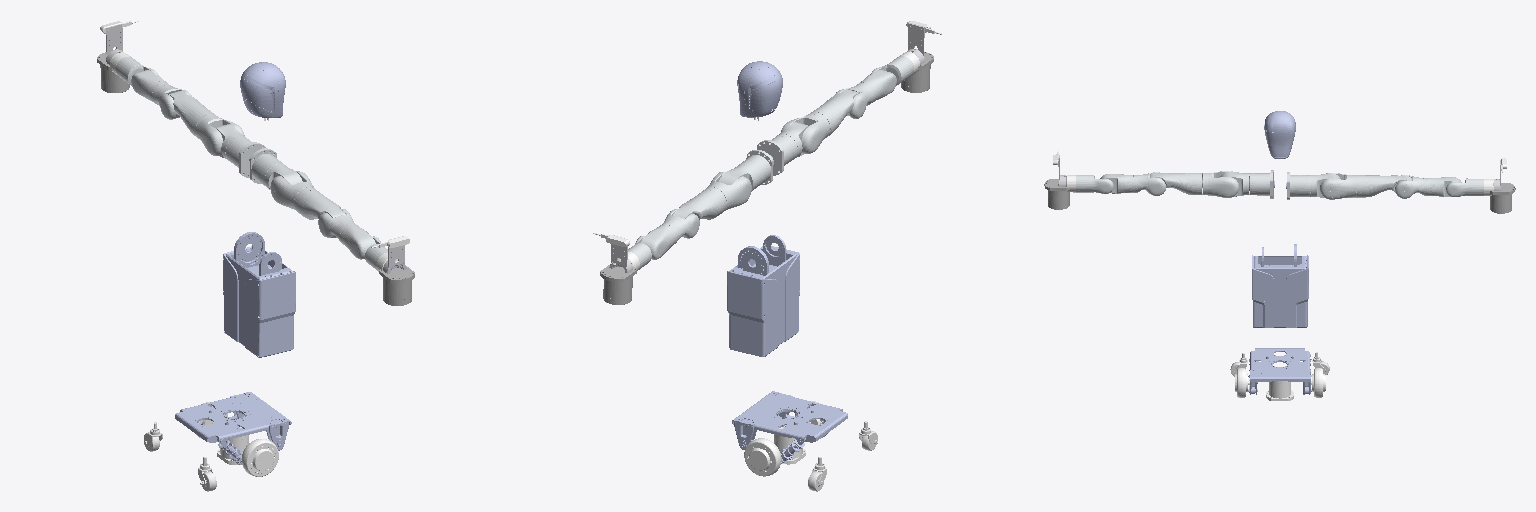
--- Render facts (derived) ---
Views: 3 orthographic renders of the robot side by side, from view 1: azimuth 30°, elevation 25°; view 2: azimuth 150°, elevation 25°; view 3: azimuth 270°, elevation 25°.
Robot: vb2_robot_description — 72 links, 71 joints (38 revolute, 10 continuous, 1 prismatic, 22 fixed); root link base_link; default pose: all joints at 0.
Links seen in each view (by area): view 1: waist_lift_link, chassis_rotate_link, head_left_right_link, right_wheel_link, right_hand_base_link, r3, l2, l3, jaka_left_base_link, r2, r5, jaka_right_base_link (+4 smaller); view 2: waist_lift_link, chassis_rotate_link, head_left_right_link, left_wheel_link, l3, left_hand_base_link, r2, jaka_right_base_link, r3, l2, l5, jaka_left_base_link (+5 smaller); view 3: waist_lift_link, chassis_rotate_link, head_left_right_link, l3, r3, l2, r2, r6, left_hand_base_link, right_hand_base_link, l6, jaka_right_base_link (+3 smaller).
Link boxes in pixels (left/top/right/bottom): waist_lift_link: left=223, top=232, right=295, bottom=357; chassis_rotate_link: left=175, top=392, right=291, bottom=464; head_left_right_link: left=240, top=62, right=285, bottom=117; right_wheel_link: left=242, top=439, right=278, bottom=476; right_hand_base_link: left=379, top=266, right=414, bottom=305; r3: left=294, top=187, right=345, bottom=237; l2: left=196, top=114, right=244, bottom=155; l3: left=168, top=91, right=214, bottom=137; jaka_left_base_link: left=226, top=136, right=265, bottom=177; r2: left=270, top=171, right=313, bottom=209; r5: left=340, top=224, right=375, bottom=259; jaka_right_base_link: left=249, top=148, right=282, bottom=185; waist_lift_link: left=727, top=235, right=799, bottom=356; chassis_rotate_link: left=732, top=391, right=847, bottom=463; head_left_right_link: left=737, top=61, right=782, bottom=117; left_wheel_link: left=744, top=438, right=781, bottom=476; l3: left=673, top=187, right=726, bottom=237; left_hand_base_link: left=600, top=265, right=636, bottom=304; r2: left=781, top=112, right=829, bottom=153; jaka_right_base_link: left=757, top=134, right=797, bottom=175; r3: left=811, top=89, right=858, bottom=137; l2: left=707, top=172, right=751, bottom=210; l5: left=641, top=224, right=676, bottom=259; jaka_left_base_link: left=738, top=150, right=773, bottom=188; waist_lift_link: left=1252, top=244, right=1308, bottom=327; chassis_rotate_link: left=1248, top=348, right=1311, bottom=394; head_left_right_link: left=1264, top=111, right=1295, bottom=158; l3: left=1357, top=175, right=1411, bottom=197; r3: left=1146, top=173, right=1202, bottom=194; l2: left=1320, top=173, right=1356, bottom=199; r2: left=1202, top=171, right=1238, bottom=197; r6: left=1076, top=175, right=1113, bottom=193; left_hand_base_link: left=1490, top=183, right=1515, bottom=213; right_hand_base_link: left=1044, top=179, right=1069, bottom=209; l6: left=1446, top=178, right=1483, bottom=196; jaka_right_base_link: left=1249, top=170, right=1273, bottom=198.
Bounding box of the posed robot: 0.451 × 2.17 × 1.5 m (x, y, z).
Meshes: 60 distinct files referenced, 37 mesh visuals loaded (31 binary STL); not drawn: 25 (reference not matched to a file when rendering).

URDF robot description (vb2_robot_description):
<?xml version="1.0" encoding="utf-8"?>
<!-- This URDF was automatically created by SolidWorks to URDF Exporter! Originally created by Stephen Brawner ([email redacted]) 
     Commit Version: 1.6.0-4-g7f85cfe  Build Version: 1.6.7995.38578
     For more information, please see http://wiki.ros.org/sw_urdf_exporter -->
<robot name="vb2_robot_description">
  <link name="base_link"/>
  <link name="body_link">
    <inertial>
      <origin xyz="-0.0251970799044455 8.52868180189679E-06 0.231530116008172" rpy="0 0 0" />
      <mass value="10.958069761735" />
      <inertia ixx="0.341839960083521" ixy="0.000982624278230509" ixz="0.0267988976156032" iyy="0.371180255026502" iyz="-0.000918163031179973" izz="0.473117101150532" />
    </inertial>
    <visual>
      <origin xyz="0 0 0" rpy="0 0 0" />
      <geometry>
        <mesh filename="package://vb2_robot_description/meshes/body/base_link.STL" />
      </geometry>
      <material name="">
        <color rgba="1 1 1 1" />
      </material>
    </visual>
    <collision>
      <origin xyz="0 0 0" rpy="0 0 0" />
      <geometry>
        <mesh filename="package://vb2_robot_description/meshes/body/base_link.STL" />
      </geometry>
    </collision>
  </link>
  <joint name="body_joint" type="fixed">
    <origin xyz="0 0 0.0" rpy="0 0 0" />
    <parent link="base_link" />
    <child link="body_link" />
  </joint>
  <link name="chassis_rotate_link">
    <inertial>
      <origin xyz="0.0109470720695932 -6.72882552291447E-05 -0.0351545668492394" rpy="0 0 0" />
      <mass value="1.15747280995913" />
      <inertia ixx="0.0038695556089932" ixy="-4.04285018806137E-07" ixz="-6.31818021660539E-05" iyy="0.0059475205719345" iyz="1.49059438520749E-08" izz="0.009314997148308" />
    </inertial>
    <visual>
      <origin xyz="0 0 0" rpy="0 0 0" />
      <geometry>
        <mesh filename="package://vb2_robot_description/meshes/body/chassis_rotate_link.STL" />
      </geometry>
      <material name="">
        <color rgba="0.792156862745098 0.819607843137255 0.933333333333333 1" />
      </material>
    </visual>
    <collision>
      <origin xyz="0 0 0" rpy="0 0 0" />
      <geometry>
        <mesh filename="package://vb2_robot_description/meshes/body/chassis_rotate_link.STL" />
      </geometry>
    </collision>
  </link>
  <joint name="chassis_rotate_joint" type="revolute">
    <origin xyz="0 0 0.158999979509223" rpy="0 0 0" />
    <parent link="base_link" />
    <child link="chassis_rotate_link" />
    <axis xyz="0 0 -1" />
    <limit lower="-3.14159" upper="3.14159" effort="0" velocity="0" />
  </joint>
  <link name="left_wheel_link">
    <inertial>
      <origin xyz="-1.47756019905931E-07 0.0354946261049178 -6.61107241173298E-08" rpy="0 0 0" />
      <mass value="4.86693848140666" />
      <inertia ixx="0.00548837601685928" ixy="-1.08676132372434E-08" ixz="-1.82831740379155E-08" iyy="0.00999342264519461" iyz="1.12705942194565E-11" izz="0.00548834613554923" />
    </inertial>
    <visual>
      <origin xyz="0 0 0" rpy="0 0 0" />
      <geometry>
        <mesh filename="package://vb2_robot_description/meshes/body/left_wheel_link.STL" />
      </geometry>
      <material name="">
        <color rgba="1 1 1 1" />
      </material>
    </visual>
    <collision>
      <origin xyz="0 0 0" rpy="0 0 0" />
      <geometry>
        <mesh filename="package://vb2_robot_description/meshes/body/left_wheel_link.STL" />
      </geometry>
    </collision>
  </link>
  <joint name="left_wheel_joint" type="continuous">
    <origin xyz="0 0.142 -0.0894999999999993" rpy="0 0 0" />
    <parent link="chassis_rotate_link" />
    <child link="left_wheel_link" />
    <axis xyz="0 -1 0" />
  </joint>
  <link name="right_wheel_link">
    <inertial>
      <origin xyz="1.4775601968128E-07 -0.0354946261049166 -6.61107240618186E-08" rpy="0 0 0" />
      <mass value="4.86693848140667" />
      <inertia ixx="0.00548837601685928" ixy="-1.08676132508849E-08" ixz="1.82831740386882E-08" iyy="0.00999342264519461" iyz="-1.12705933477203E-11" izz="0.00548834613554923" />
    </inertial>
    <visual>
      <origin xyz="0 0 0" rpy="0 0 0" />
      <geometry>
        <mesh filename="package://vb2_robot_description/meshes/body/right_wheel_link.STL" />
      </geometry>
      <material name="">
        <color rgba="1 1 1 1" />
      </material>
    </visual>
    <collision>
      <origin xyz="0 0 0" rpy="0 0 0" />
      <geometry>
        <mesh filename="package://vb2_robot_description/meshes/body/right_wheel_link.STL" />
      </geometry>
    </collision>
  </link>
  <joint name="right_wheel_joint" type="continuous">
    <origin xyz="0 -0.142 -0.0894999999999995" rpy="0 0 0" />
    <parent link="chassis_rotate_link" />
    <child link="right_wheel_link" />
    <axis xyz="0 -1 0" />
  </joint>
  <link name="driven_wheel_11_link">
    <inertial>
      <origin xyz="0.000507825861704364 0.00866693227443294 -0.0303345786097751" rpy="0 0 0" />
      <mass value="0.275591357882115" />
      <inertia ixx="0.000213166445152144" ixy="-2.27691524372505E-06" ixz="4.13287259463204E-06" iyy="0.00021972578963727" iyz="6.58699662777606E-05" izz="0.000112362383571066" />
    </inertial>
    <visual>
      <origin xyz="0 0 0" rpy="0 0 0" />
      <geometry>
        <mesh filename="package://vb2_robot_description/meshes/body/driven_wheel_11_link.STL" />
      </geometry>
      <material name="">
        <color rgba="0.956862745098039 0.956862745098039 0.956862745098039 1" />
      </material>
    </visual>
    <collision>
      <origin xyz="0 0 0" rpy="0 0 0" />
      <geometry>
        <mesh filename="package://vb2_robot_description/meshes/body/driven_wheel_11_link.STL" />
      </geometry>
    </collision>
  </link>
  <joint name="driven_wheel_11_joint" type="continuous">
    <origin xyz="0.21873654403271 0.168736544032709 0.0950000000000002" rpy="0 0 0" />
    <parent link="base_link" />
    <child link="driven_wheel_11_link" />
    <axis xyz="0 0 -1" />
  </joint>
  <link name="driven_wheel_12_link">
    <inertial>
      <origin xyz="-7.94444010576711E-09 -1.66533453693773E-16 6.93889390390723E-18" rpy="0 0 0" />
      <mass value="0.758646947138974" />
      <inertia ixx="0.000498267597109623" ixy="4.41480947958316E-19" ixz="-2.37346228596397E-18" iyy="0.000302637675433975" iyz="6.6105997393094E-11" izz="0.000302641828460563" />
    </inertial>
    <visual>
      <origin xyz="0 0 0" rpy="0 0 0" />
      <geometry>
        <mesh filename="package://vb2_robot_description/meshes/body/driven_wheel_12_link.STL" />
      </geometry>
      <material name="">
        <color rgba="0.956862745098039 0.956862745098039 0.956862745098039 1" />
      </material>
    </visual>
    <collision>
      <origin xyz="0 0 0" rpy="0 0 0" />
      <geometry>
        <mesh filename="package://vb2_robot_description/meshes/body/driven_wheel_12_link.STL" />
      </geometry>
    </collision>
  </link>
  <joint name="driven_wheel_12_joint" type="continuous">
    <origin xyz="0 0.025 -0.06" rpy="0 0 0" />
    <parent link="driven_wheel_11_link" />
    <child link="driven_wheel_12_link" />
    <axis xyz="1 0 0" />
  </joint>
  <link name="driven_wheel_21_link">
    <inertial>
      <origin xyz="0.00050782586170442 0.00866693227443296 -0.0303345786097751" rpy="0 0 0" />
      <mass value="0.275591357882116" />
      <inertia ixx="0.000213166445152144" ixy="-2.27691524372511E-06" ixz="4.13287259463212E-06" iyy="0.00021972578963727" iyz="6.58699662777607E-05" izz="0.000112362383571066" />
    </inertial>
    <visual>
      <origin xyz="0 0 0" rpy="0 0 0" />
      <geometry>
        <mesh filename="package://vb2_robot_description/meshes/body/driven_wheel_21_link.STL" />
      </geometry>
      <material name="">
        <color rgba="0.956862745098039 0.956862745098039 0.956862745098039 1" />
      </material>
    </visual>
    <collision>
      <origin xyz="0 0 0" rpy="0 0 0" />
      <geometry>
        <mesh filename="package://vb2_robot_description/meshes/body/driven_wheel_21_link.STL" />
      </geometry>
    </collision>
  </link>
  <joint name="driven_wheel_21_joint" type="continuous">
    <origin xyz="-0.225934044022146 0.168736544032709 0.0950000000000002" rpy="0 0 0" />
    <parent link="base_link" />
    <child link="driven_wheel_21_link" />
    <axis xyz="0 0 -1" />
  </joint>
  <link name="driven_wheel_22_link">
    <inertial>
      <origin xyz="-7.94444013352269E-09 -1.11022302462516E-16 -1.38777878078145E-17" rpy="0 0 0" />
      <mass value="0.758646947138975" />
      <inertia ixx="0.000498267597109623" ixy="4.17194150408554E-19" ixz="-2.42508574243732E-18" iyy="0.000302637675433975" iyz="6.61059973239751E-11" izz="0.000302641828460563" />
    </inertial>
    <visual>
      <origin xyz="0 0 0" rpy="0 0 0" />
      <geometry>
        <mesh filename="package://vb2_robot_description/meshes/body/driven_wheel_22_link.STL" />
      </geometry>
      <material name="">
        <color rgba="0.956862745098039 0.956862745098039 0.956862745098039 1" />
      </material>
    </visual>
    <collision>
      <origin xyz="0 0 0" rpy="0 0 0" />
      <geometry>
        <mesh filename="package://vb2_robot_description/meshes/body/driven_wheel_22_link.STL" />
      </geometry>
    </collision>
  </link>
  <joint name="driven_wheel_22_joint" type="continuous">
    <origin xyz="0 0.025 -0.06" rpy="0 0 0" />
    <parent link="driven_wheel_21_link" />
    <child link="driven_wheel_22_link" />
    <axis xyz="1 0 0" />
  </joint>
  <link name="driven_wheel_31_link">
    <inertial>
      <origin xyz="-0.00050782586170442 -0.00866693227443296 -0.0303345786097751" rpy="0 0 0" />
      <mass value="0.275591357882116" />
      <inertia ixx="0.000213166445152144" ixy="-2.27691524372511E-06" ixz="-4.13287259463212E-06" iyy="0.00021972578963727" iyz="-6.58699662777607E-05" izz="0.000112362383571066" />
    </inertial>
    <visual>
      <origin xyz="0 0 0" rpy="0 0 0" />
      <geometry>
        <mesh filename="package://vb2_robot_description/meshes/body/driven_wheel_31_link.STL" />
      </geometry>
      <material name="">
        <color rgba="0.956862745098039 0.956862745098039 0.956862745098039 1" />
      </material>
    </visual>
    <collision>
      <origin xyz="0 0 0" rpy="0 0 0" />
      <geometry>
        <mesh filename="package://vb2_robot_description/meshes/body/driven_wheel_31_link.STL" />
      </geometry>
    </collision>
  </link>
  <joint name="driven_wheel_31_joint" type="continuous">
    <origin xyz="0.225934044022146 -0.168736544032709 0.0950000000000002" rpy="0 0 0" />
    <parent link="base_link" />
    <child link="driven_wheel_31_link" />
    <axis xyz="0 0 -1" />
  </joint>
  <link name="driven_wheel_32_link">
    <inertial>
      <origin xyz="7.94444013352269E-09 1.11022302462516E-16 -1.38777878078145E-17" rpy="0 0 0" />
      <mass value="0.758646947138975" />
      <inertia ixx="0.000498267597109623" ixy="4.17216344536806E-19" ixz="2.42508732772574E-18" iyy="0.000302637675433975" iyz="-6.61059973239751E-11" izz="0.000302641828460563" />
    </inertial>
    <visual>
      <origin xyz="0 0 0" rpy="0 0 0" />
      <geometry>
        <mesh filename="package://vb2_robot_description/meshes/body/driven_wheel_32_link.STL" />
      </geometry>
      <material name="">
        <color rgba="0.956862745098039 0.956862745098039 0.956862745098039 1" />
      </material>
    </visual>
    <collision>
      <origin xyz="0 0 0" rpy="0 0 0" />
      <geometry>
        <mesh filename="package://vb2_robot_description/meshes/body/driven_wheel_32_link.STL" />
      </geometry>
    </collision>
  </link>
  <joint name="driven_wheel_32_joint" type="continuous">
    <origin xyz="0 -0.025 -0.06" rpy="0 0 0" />
    <parent link="driven_wheel_31_link" />
    <child link="driven_wheel_32_link" />
    <axis xyz="-1 0 0" />
  </joint>
  <link name="driven_wheel_41_link">
    <inertial>
      <origin xyz="-0.000507825861704336 -0.00866693227443291 -0.0303345786097751" rpy="0 0 0" />
      <mass value="0.275591357882115" />
      <inertia ixx="0.000213166445152144" ixy="-2.27691524372505E-06" ixz="-4.13287259463204E-06" iyy="0.00021972578963727" iyz="-6.58699662777606E-05" izz="0.000112362383571066" />
    </inertial>
    <visual>
      <origin xyz="0 0 0" rpy="0 0 0" />
      <geometry>
        <mesh filename="package://vb2_robot_description/meshes/body/driven_wheel_41_link.STL" />
      </geometry>
      <material name="">
        <color rgba="0.956862745098039 0.956862745098039 0.956862745098039 1" />
      </material>
    </visual>
    <collision>
      <origin xyz="0 0 0" rpy="0 0 0" />
      <geometry>
        <mesh filename="package://vb2_robot_description/meshes/body/driven_wheel_41_link.STL" />
      </geometry>
    </collision>
  </link>
  <joint name="driven_wheel_41_joint" type="continuous">
    <origin xyz="-0.21873654403271 -0.168736544032709 0.0950000000000002" rpy="0 0 0" />
    <parent link="base_link" />
    <child link="driven_wheel_41_link" />
    <axis xyz="0 0 -1" />
  </joint>
  <link name="driven_wheel_42_link">
    <inertial>
      <origin xyz="7.94444010576711E-09 1.66533453693773E-16 6.93889390390723E-18" rpy="0 0 0" />
      <mass value="0.758646947138974" />
      <inertia ixx="0.000498267597109623" ixy="4.41493630368903E-19" ixz="2.37332278001496E-18" iyy="0.000302637675433975" iyz="-6.6105997393094E-11" izz="0.000302641828460563" />
    </inertial>
    <visual>
      <origin xyz="0 0 0" rpy="0 0 0" />
      <geometry>
        <mesh filename="package://vb2_robot_description/meshes/body/driven_wheel_42_link.STL" />
      </geometry>
      <material name="">
        <color rgba="0.956862745098039 0.956862745098039 0.956862745098039 1" />
      </material>
    </visual>
    <collision>
      <origin xyz="0 0 0" rpy="0 0 0" />
      <geometry>
        <mesh filename="package://vb2_robot_description/meshes/body/driven_wheel_42_link.STL" />
      </geometry>
    </collision>
  </link>
  <joint name="driven_wheel_42_joint" type="continuous">
    <origin xyz="0 -0.025 -0.06" rpy="0 0 0" />
    <parent link="driven_wheel_41_link" />
    <child link="driven_wheel_42_link" />
    <axis xyz="-1 0 0" />
  </joint>

  <link name="waist_lift_link">
    <inertial>
      <origin xyz="0.00012524 0.00097659 5.8284E-05" rpy="0 0 0" />
      <mass value="1.4015" />
      <inertia ixx="0.026179" ixy="-8.7251E-06" ixz="-0.00014781" iyy="0.017166" iyz="-0.00035677" izz="0.016586" />
    </inertial>
    <visual>
      <origin xyz="0 0 0" rpy="0 0 0" />
      <geometry>
        <mesh filename="package://vb2_robot_description/meshes/body/waist_lift_link.STL" />
      </geometry>
      <material name="">
        <color rgba="0.79216 0.81961 0.93333 1" />
      </material>
    </visual>
    <collision>
      <origin xyz="0 0 0" rpy="0 0 0" />
      <geometry>
        <mesh filename="package://vb2_robot_description/meshes/body/waist_lift_link.STL" />
      </geometry>
    </collision>
  </link>
  <joint name="waist_lift_joint" type="prismatic">
    <!-- !USM <origin xyz="0.1 0 0.6455" rpy="0 0 0" /> -->
    <!-- !vb2-1 -->
    <origin xyz="0.1 0 0.633" rpy="0 0 0" />
    <parent link="base_link" />
    <child link="waist_lift_link" />
    <axis xyz="0 0 1" />
    <limit lower="0" upper="0.25" effort="0" velocity="0" />
  </joint>
  <link name="waist_rotate_link">
    <inertial>
      <origin xyz="-0.003779 -0.0018054 0.17212" rpy="0 0 0" />
      <mass value="4.8011" />
      <inertia ixx="0.10715" ixy="1.9407E-05" ixz="0.0039927" iyy="0.094296" iyz="-0.00028871" izz="0.047274" />
    </inertial>
    <visual>
      <origin xyz="0 0 0" rpy="0 0 0" />
      <geometry>
        <mesh filename="package://vb2_robot_description/meshes/body/waist_rotate_link.STL" />
      </geometry>
      <material name="">
        <color rgba="0.79216 0.81961 0.93333 1" />
      </material>
    </visual>
    <collision>
      <origin xyz="0 0 0" rpy="0 0 0" />
      <geometry>
        <mesh filename="package://vb2_robot_description/meshes/body/waist_rotate_link.STL" />
      </geometry>
    </collision>
  </link>
  <joint name="waist_rotate_joint" type="revolute">
    <origin xyz="0 0 0.125" rpy="0 0 0" />
    <parent link="waist_lift_link" />
    <child link="waist_rotate_link" />
    <axis xyz="0 -1 0" />
    <limit lower="-0.785" upper="0" effort="0" velocity="0" />
  </joint>
  <link name="head_up_down_link">
    <inertial>
      <origin xyz="-2.0779E-13 -4.8629E-05 0.027657" rpy="0 0 0" />
      <mass value="0.042527" />
      <inertia ixx="2.6994E-05" ixy="-1.0403E-19" ixz="6.5803E-17" iyy="1.2063E-05" iyz="-8.8309E-21" izz="1.8233E-05" />
    </inertial>
    <visual>
      <origin xyz="0 0 0" rpy="0 0 0" />
      <geometry>
        <mesh filename="package://vb2_robot_description/meshes/body/head_up_down_link.STL" />
      </geometry>
      <material name="">
        <color rgba="1 1 1 1" />
      </material>
    </visual>
    <collision>
      <origin xyz="0 0 0" rpy="0 0 0" />
      <geometry>
        <mesh filename="package://vb2_robot_description/meshes/body/head_up_down_link.STL" />
      </geometry>
    </collision>
  </link>
  <joint name="head_up_down_joint" type="revolute">
    <origin xyz="0.015504 0 0.536" rpy="0 0 0" />
    <parent link="waist_rotate_link" />
    <child link="head_up_down_link" />
    <axis xyz="0 1 0" />
    <limit lower="-0.52" upper="0.52" effort="30" velocity="1.134" />
  </joint>
  <link name="head_left_right_link">
    <inertial>
      <origin xyz="0.00087583 8.4935E-06 0.061613" rpy="0 0 0" />
      <mass value="0.31936" />
      <inertia ixx="0.0013361" ixy="-5.6239E-08" ixz="0.00021074" iyy="0.0010235" iyz="3.4007E-08" izz="0.00085163" />
    </inertial>
    <visual>
      <origin xyz="0 0 0" rpy="0 0 0" />
      <geometry>
        <mesh filename="package://vb2_robot_description/meshes/body/head_left_right_link.STL" />
      </geometry>
      <material name="">
        <color rgba="0.79216 0.81961 0.93333 1" />
      </material>
    </visual>
    <collision>
      <origin xyz="0 0 0" rpy="0 0 0" />
      <geometry>
        <mesh filename="package://vb2_robot_description/meshes/body/head_left_right_link.STL" />
      </geometry>
    </collision>
  </link>
  <joint name="head_left_right_joint" type="revolute">
    <origin xyz="0 -4.8629E-05 0.045" rpy="0 0 0" />
    <parent link="head_up_down_link" />
    <child link="head_left_right_link" />
    <axis xyz="0 0 1" />
    <limit lower="-0.52" upper="0.52" effort="30" velocity="1.134" />
  </joint>

  <link name="jaka_left_link">
    <inertial>
      <origin xyz="1.3878E-17 -0.0025 -4.4409E-16" rpy="0 0 0" />
      <mass value="0.0035343" />
      <inertia ixx="2.0617E-07" ixy="-2.0885E-23" ixz="2.4694E-38" iyy="3.9761E-07" iyz="4.1206E-24" izz="2.0617E-07" />
    </inertial>
    <visual>
      <origin xyz="0 0 0" rpy="0 0 0" />
      <geometry>
        <mesh filename="package://vb2_robot_description/meshes/body/jaka_left_base_link.STL" />
      </geometry>
      <material name="">
        <color rgba="0.79216 0.81961 0.93333 1" />
      </material>
    </visual>
    <collision>
      <origin xyz="0 0 0" rpy="0 0 0" />
      <geometry>
        <mesh filename="package://vb2_robot_description/meshes/body/jaka_left_base_link.STL" />
      </geometry>
    </collision>
  </link>
  <joint name="jaka_left_joint" type="fixed">
    <!-- !USM <origin xyz="0 0.03 0.368" rpy="0 0 0" /> -->
    <!-- !vb2-1 -->
    <!-- <origin xyz="0 0.03 0.35" rpy="0 0 0" />
    <parent link="waist_rotate_link" /> -->
    <!-- 标定后 -->
    <origin xyz="-0.051893149 -0.234210701 -0.103264933" rpy="2.917451 -1.539174 -1.351978" />
    <parent link="HS3310_link" />
    <child link="jaka_left_link" />
  </joint>
  <link name="jaka_right_link">
    <inertial>
      <origin xyz="-2.7756E-17 0.0025 0" rpy="0 0 0" />
      <mass value="0.0035343" />
      <inertia ixx="2.0617E-07" ixy="3.9632E-23" ixz="2.5996E-38" iyy="3.9761E-07" iyz="4.1206E-24" izz="2.0617E-07" />
    </inertial>
    <visual>
      <origin xyz="0 0 0" rpy="0 0 0" />
      <geometry>
        <mesh filename="package://vb2_robot_description/meshes/body/jaka_right_base_link.STL" />
      </geometry>
      <material name="">
        <color rgba="0.79216 0.81961 0.93333 1" />
      </material>
    </visual>
    <collision>
      <origin xyz="0 0 0" rpy="0 0 0" />
      <geometry>
        <mesh filename="package://vb2_robot_description/meshes/body/jaka_right_base_link.STL" />
      </geometry>
    </collision>
  </link>
  <joint name="jaka_right_joint" type="fixed">
    <!-- !USM <origin xyz="0 -0.03 0.368" rpy="0 0 0" /> -->
    <!-- !vb2-1 -->
    <!-- <origin xyz="0 -0.03 0.35" rpy="0 0 0" />
    <parent link="waist_rotate_link" /> -->
    <!-- 标定后 -->
    <origin xyz="0.008920934 -0.241096213 -0.102657644 " rpy="2.274 -1.539 -0.697" />
    <parent link="HS3310_link" />
    <child link="jaka_right_link" />
  </joint>

  <!-- jaka left arm -->
  <link name="jaka_left_base_link">
    <inertial>
      <origin xyz="-1.11166631455717E-12 6.05753558424738E-10 0.0527092716866375" rpy="0 0 0" />
      <mass value="2.65143721613807" />
      <inertia ixx="0.00475738389153103" ixy="-5.95934896029248E-12" ixz="-9.09286133435972E-14" iyy="0.00459825420119207" iyz="-2.97976271757394E-11" izz="0.00370585568871224" />
    </inertial>
    <visual>
      <origin xyz="0 0 0" rpy="0 0 0" />
      <geometry>
        <mesh filename="package://vb2_robot_description/meshes/jaka_left_arm/base_link.STL" />
      </geometry>
      <material name="">
        <color rgba="0.898039215686275 0.917647058823529 0.929411764705882 1" />
      </material>
    </visual>
    <collision>
      <origin xyz="0 0 0" rpy="0 0 0" />
      <geometry>
        <mesh filename="package://vb2_robot_description/meshes/jaka_left_arm/base_link.STL" />
      </geometry>
    </collision>
  </link>
  <joint name="jaka_left_base_joint" type="fixed">
    <origin xyz="0 0 0" rpy="-1.5707963 0 0" />
    <parent link="jaka_left_link" />
    <child link="jaka_left_base_link" />
  </joint>
  <link name="l1">
    <inertial>
      <origin xyz="-2.46089259270388E-06 -2.84970803954288E-07 0.164287024147324" rpy="0 0 0" />
      <mass value="1.4907907847092" />
      <inertia ixx="0.0030595188968923" ixy="1.23224145473104E-07" ixz="4.7234802831064E-08" iyy="0.00378376232211127" iyz="-3.76862386224473E-08" izz="0.00212531859055589" />
    </inertial>
    <visual>
      <origin xyz="0 0 0" rpy="0 0 0" />
      <geometry>
        <mesh filename="package://vb2_robot_description/meshes/jaka_left_arm/l1.STL" />
      </geometry>
      <material name="">
        <color rgba="0.898039215686275 0.917647058823529 0.929411764705882 1" />
      </material>
    </visual>
    <collision>
      <origin xyz="0 0 0" rpy="0 0 0" />
      <geometry>
        <mesh filename="package://vb2_robot_description/meshes/jaka_left_arm/l1.STL" />
      </geometry>
    </collision>
  </link>
  <joint name="l_j1" type="revolute">
    <origin xyz="0 0 0" rpy="0 0 -1.5708" />
    <parent link="jaka_left_base_link" />
    <child link="l1" />
    <axis xyz="0 0 1" />
    <limit lower="-6.2831" upper="6.2831" effort="0" velocity="0" />
  </joint>
  <link name="l2">
    <inertial>
      <origin xyz="-0.00348811639068414 -0.0451640844014566 -0.000762978610482329" rpy="0 0 0" />
      <mass value="2.70256692795753" />
      <inertia ixx="0.00982602108227595" ixy="-0.000302421298853649" ixz="7.23672460560105E-06" iyy="0.00590953952283702" iyz="9.32631657353728E-05" izz="0.00747854000665196" />
    </inertial>
    <visual>
      <origin xyz="0 0 0" rpy="0 0 0" />
      <geometry>
        <mesh filename="package://vb2_robot_description/meshes/jaka_left_arm/l2.STL" />
      </geometry>
      <material name="">
        <color rgba="0.898039215686275 0.917647058823529 0.929411764705882 1" />
      </material>
    </visual>
    <collision>
      <origin xyz="0 0 0" rpy="0 0 0" />
      <geometry>
        <mesh filename="package://vb2_robot_description/meshes/jaka_left_arm/l2.STL" />
      </geometry>
    </collision>
  </link>
  <joint name="l_j2" type="revolute">
    <origin xyz="0 0 0.203" rpy="-1.5708 0 0" />
    <parent link="l1" />
    <child link="l2" />
    <axis xyz="0 0 1" />
    <limit lower="-1.8325" upper="1.8325" effort="0" velocity="0" />
  </joint>
  <link name="l3">
    <inertial>
      <origin xyz="-0.00699746985937827 -0.000446252744778108 0.236700984606428" rpy="0 0 0" />
      <mass value="3.5479020475757" />
      <inertia ixx="0.0185299155929474" ixy="1.22555145339142E-06" ixz="0.000124487295297341" iyy="0.0186988857034901" iyz="-1.68829932415711E-05" izz="0.00375501658944992" />
    </inertial>
    <visual>
      <origin xyz="0 0 0" rpy="0 0 0" />
      <geometry>
        <mesh filename="package://vb2_robot_description/meshes/jaka_left_arm/l3.STL" />
      </geometry>
      <material name="">
        <color rgba="0.898039215686275 0.917647058823529 0.929411764705882 1" />
      </material>
    </visual>
    <collision>
      <origin xyz="0 0 0" rpy="0 0 0" />
      <geometry>
        <mesh filename="package://vb2_robot_description/meshes/jaka_left_arm/l3.STL" />
      </geometry>
    </collision>
  </link>
  <joint name="l_j3" type="revolute">
    <origin xyz="0 0 0" rpy="-1.5708 0 3.1416" />
    <parent link="l2" />
    <child link="l3" />
    <axis xyz="0 0 1" />
    <limit lower="-6.2831" upper="6.2831" effort="0" velocity="0" />
  </joint>
  <link name="l4">
    <inertial>
      <origin xyz="0.00585740744905894 -0.0314019238103633 0.000428273273246155" rpy="0 0 0" />
      <mass value="1.47373567274524" />
      <inertia ixx="0.00377869099038954" ixy="0.000218862142889913" ixz="-9.99763645881045E-08" iyy="0.00227042793327652" iyz="8.03576591258955E-06" izz="0.00281134195603674" />
    </inertial>
    <visual>
      <origin xyz="0 0 0" rpy="0 0 0" />
      <geometry>
        <mesh filename="package://vb2_robot_description/meshes/jaka_left_arm/l4.STL" />
      </geometry>
      <material name="">
        <color rgba="0.898039215686275 0.917647058823529 0.929411764705882 1" />
      </material>
    </visual>
    <collision>
      <origin xyz="0 0 0" rpy="0 0 0" />
      <geometry>
        <mesh filename="package://vb2_robot_description/meshes/jaka_left_arm/l4.STL" />
      </geometry>
    </collision>
  </link>
  <joint name="l_j4" type="revolute">
    <origin xyz="0.00040047 0 0.3405" rpy="-1.5708 0 -3.1416" />
    <parent link="l3" />
    <child link="l4" />
    <axis xyz="0 0 1" />
    <limit lower="-2.5307" upper="0.5235" effort="0" velocity="0" />
  </joint>
  <link name="l5">
    <inertial>
      <origin xyz="-2.89934462277541E-06 0.00407892339164011 0.183529656371899" rpy="0 0 0" />
      <mass value="2.28083614923683" />
      <inertia ixx="0.00549246978922256" ixy="2.00179486326029E-07" ixz="2.24427581574717E-07" iyy="0.00557866184825314" iyz="-0.000384181497552219" izz="0.00195895181252497" />
    </inertial>
    <visual>
      <origin xyz="0 0 0" rpy="0 0 0" />
      <geometry>
        <mesh filename="package://vb2_robot_description/meshes/jaka_left_arm/l5.STL" />
      </geometry>
      <material name="">
        <color rgba="0.898039215686275 0.917647058823529 0.929411764705882 1" />
      </material>
    </visual>
    <collision>
      <origin xyz="0 0 0" rpy="0 0 0" />
      <geometry>
        <mesh filename="package://vb2_robot_description/meshes/jaka_left_arm/l5.STL" />
      </geometry>
    </collision>
  </link>
  <joint name="l_j5" type="revolute">
    <origin xyz="0 0 0" rpy="-1.5708 0 -3.1416" />
    <parent link="l4" />
    <child link="l5" />
    <axis xyz="0 0 1" />
    <limit lower="-6.2831" upper="6.2831" effort="0" velocity="0" />
  </joint>
  <link name="l6">
    <inertial>
      <origin xyz="-1.74515663808883E-07 -0.0869630242340927 0.00555273370174895" rpy="0 0 0" />
      <mass value="1.76168273075004" />
      <inertia ixx="0.0044404168516555" ixy="2.375821924305E-08" ixz="6.28763061286534E-09" iyy="0.00157714240799763" iyz="-0.00076969127576894" izz="0.00425162477583013" />
    </inertial>
    <visual>
      <origin xyz="0 0 0" rpy="0 0 0" />
      <geometry>
        <mesh filename="package://vb2_robot_description/meshes/jaka_left_arm/l6.STL" />
      </geometry>
      <material name="">
        <color rgba="0.898039215686275 0.917647058823529 0.929411764705882 1" />
      </material>
    </visual>
    <collision>
      <origin xyz="0 0 0" rpy="0 0 0" />
      <geometry>
        <mesh filename="package://vb2_robot_description/meshes/jaka_left_arm/l6.STL" />
      </geometry>
    </collision>
  </link>
  <joint name="l_j6" type="revolute">
    <origin xyz="0 0 0.22694" rpy="-1.5708 0 -3.1416" />
    <parent link="l5" />
    <child link="l6" />
    <axis xyz="0 0 1" />
    <limit lower="-1.5707" upper="1.5707" effort="0" velocity="0" />
  </joint>
  <link name="l7">
    <inertial>
      <origin xyz="2.69418597542703E-07 -2.94990448034826E-05 0.176217274894146" rpy="0 0 0" />
      <mass value="0.634983447813082" />
      <inertia ixx="0.000369700889597726" ixy="3.07621123817192E-13" ixz="2.61093000823341E-13" iyy="0.000370207332440143" iyz="4.29842702140501E-07" izz="0.000512144747874418" />
    </inertial>
    <visual>
      <origin xyz="0 0 0" rpy="0 0 0" />
      <geometry>
        <mesh filename="package://vb2_robot_description/meshes/jaka_left_arm/l7.STL" />
      </geometry>
      <material name="">
        <color rgba="1 1 1 1" />
      </material>
    </visual>
    <collision>
      <origin xyz="0 0 0" rpy="0 0 0" />
      <geometry>
        <mesh filename="package://vb2_robot_description/meshes/jaka_left_arm/l7.STL" />
      </geometry>
    </collision>
  </link>
  <joint name="l_j7" type="revolute">
    <origin xyz="0 0 0" rpy="1.5708 0 0" />
    <parent link="l6" />
    <child link="l7" />
    <axis xyz="0 0 1" />
    <limit lower="-6.2831" upper="6.2831" effort="0" velocity="0" />
  </joint>
  <link name="lt">
    <inertial>
      <origin xyz="1.11022302462516E-16 1.38777878078145E-17 -0.00100000000000011" rpy="0 0 0" />
      <mass value="0.00155862265526231" />
      <inertia ixx="9.71784989903392E-08" ixy="2.00584569560588E-24" ixz="-1.11669382694659E-23" iyy="9.71784989903392E-08" iyz="2.69722272003375E-24" izz="1.93317916210503E-07" />
    </inertial>
    <visual>
      <origin xyz="0 0 0" rpy="0 0 0" />
      <geometry>
        <mesh filename="package://vb2_robot_description/meshes/jaka_left_arm/lt.STL" />
      </geometry>
      <material name="">
        <color rgba="0.792156862745098 0.819607843137255 0.933333333333333 1" />
      </material>
    </visual>
    <collision>
      <origin xyz="0 0 0" rpy="0 0 0" />
      <geometry>
        <mesh filename="package://vb2_robot_description/meshes/jaka_left_arm/lt.STL" />
      </geometry>
    </collision>
  </link>
  <joint name="l_t" type="fixed">
    <origin xyz="0 0 0.18827" rpy="0 0 0" />
    <parent link="l7" />
    <child link="lt" />
    <axis xyz="0 0 0" />
  </joint>

  <link name="left_tool_link"/>
  <joint name="left_tool_joint" type="fixed">
    <origin xyz="0 0 0" rpy="0 0 0" />
    <parent link="lt" />
    <child link="left_tool_link" />
    <axis xyz="0 0 0" />
  </joint>

  <!-- jaka right arm -->
  <link name="jaka_right_base_link">
    <inertial>
      <origin xyz="1.11166631455717E-12 -6.05753558424738E-10 0.0527092716866375" rpy="0 0 0" />
      <mass value="2.65143721613807" />
      <inertia ixx="0.00475738389153103" ixy="-5.95934905864509E-12" ixz="9.0928659444995E-14" iyy="0.00459825420119207" iyz="2.97976273849371E-11" izz="0.00370585568871224" />
    </inertial>
    <visual>
      <origin xyz="0 0 0" rpy="0 0 0" />
      <geometry>
        <mesh filename="package://vb2_robot_description/meshes/jaka_right_arm/base_link.STL" />
      </geometry>
      <material name="">
        <color rgba="0.898039215686275 0.917647058823529 0.929411764705882 1" />
      </material>
    </visual>
    <collision>
      <origin xyz="0 0 0" rpy="0 0 0" />
      <geometry>
        <mesh filename="package://vb2_robot_description/meshes/jaka_right_arm/base_link.STL" />
      </geometry>
    </collision>
  </link>
  <joint name="jaka_right_base_joint" type="fixed">
    <origin xyz="0 0 0" rpy="-1.5707963 0 3.1415926" />
    <parent link="jaka_right_link" />
    <child link="jaka_right_base_link" />
  </joint>
  <link name="r1">
    <inertial>
      <origin xyz="2.46089330108168E-06 2.84970774561133E-07 0.164287024147328" rpy="0 0 0" />
      <mass value="1.49079078470936" />
      <inertia ixx="0.00305951889689259" ixy="1.23224145473539E-07" ixz="-4.72348068028591E-08" iyy="0.00378376232211153" iyz="3.76862388648401E-08" izz="0.00212531859055613" />
    </inertial>
    <visual>
      <origin xyz="0 0 0" rpy="0 0 0" />
      <geometry>
        <mesh filename="package://vb2_robot_description/meshes/jaka_right_arm/r1.STL" />
      </geometry>
      <material name="">
        <color rgba="0.898039215686275 0.917647058823529 0.929411764705882 1" />
      </material>
    </visual>
    <collision>
      <origin xyz="0 0 0" rpy="0 0 0" />
      <geometry>
        <mesh filename="package://vb2_robot_description/meshes/jaka_right_arm/r1.STL" />
      </geometry>
    </collision>
  </link>
  <joint name="r_j1" type="revolute">
    <origin xyz="0 0 0" rpy="0 0 1.5708" />
    <parent link="jaka_right_base_link" />
    <child link="r1" />
    <axis xyz="0 0 1" />
    <limit lower="-6.2832" upper="6.2832" effort="0" velocity="0" />
  </joint>
  <link name="r2">
    <inertial>
      <origin xyz="-1.71093757583285E-05 -0.0452985721312201 0.000762955289202616" rpy="0 0 0" />
      <mass value="2.70256307184883" />
      <inertia ixx="0.00984922872707276" ixy="-3.34424080735711E-06" ixz="1.12868357873839E-09" iyy="0.00588632047318316" iyz="-9.35439174939498E-05" izz="0.00747853193882275" />
    </inertial>
    <visual>
      <origin xyz="0 0 0" rpy="0 0 0" />
      <geometry>
        <mesh filename="package://vb2_robot_description/meshes/jaka_right_arm/r2.STL" />
      </geometry>
      <material name="">
        <color rgba="0.898039215686275 0.917647058823529 0.929411764705882 1" />
      </material>
    </visual>
    <collision>
      <origin xyz="0 0 0" rpy="0 0 0" />
      <geometry>
        <mesh filename="package://vb2_robot_description/meshes/jaka_right_arm/r2.STL" />
      </geometry>
    </collision>
  </link>
  <joint name="r_j2" type="revolute">
    <origin xyz="0 0 0.2075" rpy="-1.5708 0 0" />
    <parent link="r1" />
    <child link="r2" />
    <axis xyz="0 0 -1" />
    <limit lower="-1.8325" upper="1.8325" effort="0" velocity="0" />
  </joint>
  <link name="r3">
    <inertial>
      <origin xyz="0.00699731121913066 -0.000445772591236654 -0.236701008892725" rpy="0 0 0" />
      <mass value="3.54789151285921" />
      <inertia ixx="0.0185299010490046" ixy="-1.22457898248011E-06" ixz="0.00012448607887989" iyy="0.0186988856311153" iyz="1.6911908257329E-05" izz="0.00375500728039875" />
    </inertial>
    <visual>
      <origin xyz="0 0 0" rpy="0 0 0" />
      <geometry>
        <mesh filename="package://vb2_robot_description/meshes/jaka_right_arm/r3.STL" />
      </geometry>
      <material name="">
        <color rgba="0.898039215686275 0.917647058823529 0.929411764705882 1" />
      </material>
    </visual>
    <collision>
      <origin xyz="0 0 0" rpy="0 0 0" />
      <geometry>
        <mesh filename="package://vb2_robot_description/meshes/jaka_right_arm/r3.STL" />
      </geometry>
    </collision>
  </link>
  <joint name="r_j3" type="revolute">
    <origin xyz="0 0 0" rpy="1.5708 0 3.1416" />
    <parent link="r2" />
    <child link="r3" />
    <axis xyz="0 0 -1" />
    <limit lower="-6.2832" upper="6.2832" effort="0" velocity="0" />
  </joint>
  <link name="r4">
    <inertial>
      <origin xyz="0.00464514398879598 0.0316039478429687 -0.000428086479630468" rpy="0 0 0" />
      <mass value="1.47374255934675" />
      <inertia ixx="0.00379329381039364" ixy="-0.000160244555641476" ixz="-2.06625013224252E-07" iyy="0.00225584782324939" iyz="8.0342550870751E-06" izz="0.00281134501628177" />
    </inertial>
    <visual>
      <origin xyz="0 0 0" rpy="0 0 0" />
      <geometry>
        <mesh filename="package://vb2_robot_description/meshes/jaka_right_arm/r4.STL" />
      </geometry>
      <material name="">
        <color rgba="0.898039215686275 0.917647058823529 0.929411764705882 1" />
      </material>
    </visual>
    <collision>
      <origin xyz="0 0 0" rpy="0 0 0" />
      <geometry>
        <mesh filename="package://vb2_robot_description/meshes/jaka_right_arm/r4.STL" />
      </geometry>
    </collision>
  </link>
  <joint name="r_j4" type="revolute">
    <origin xyz="-0.00040046 0 -0.33028" rpy="-1.5708 0 0" />
    <parent link="r3" />
    <child link="r4" />
    <axis xyz="0 0 -1" />
    <limit lower="-2.5307" upper="0.5235" effort="0" velocity="0" />
  </joint>
  <link name="r5">
    <inertial>
      <origin xyz="2.21934846231231E-06 -0.00407989097946271 0.183530137971577" rpy="0 0 0" />
      <mass value="2.28087661840322" />
      <inertia ixx="0.00549252085210875" ixy="1.62381294089941E-07" ixz="-1.62547546702497E-07" iyy="0.00557867055594488" iyz="0.000384258276813551" izz="0.0019590051756608" />
    </inertial>
    <visual>
      <origin xyz="0 0 0" rpy="0 0 0" />
      <geometry>
        <mesh filename="package://vb2_robot_description/meshes/jaka_right_arm/r5.STL" />
      </geometry>
      <material name="">
        <color rgba="0.898039215686275 0.917647058823529 0.929411764705882 1" />
      </material>
    </visual>
    <collision>
      <origin xyz="0 0 0" rpy="0 0 0" />
      <geometry>
        <mesh filename="package://vb2_robot_description/meshes/jaka_right_arm/r5.STL" />
      </geometry>
    </collision>
  </link>
  <joint name="r_j5" type="revolute">
    <origin xyz="0 0 0" rpy="1.5708 0 -3.1416" />
    <parent link="r4" />
    <child link="r5" />
    <axis xyz="0 0 1" />
    <limit lower="-6.2832" upper="6.2832" effort="0" velocity="0" />
  </joint>
  <link name="r6">
    <inertial>
      <origin xyz="-1.87505902221607E-07 -0.0869630161568319 0.0055480090278294" rpy="0 0 0" />
      <mass value="1.76168294752248" />
      <inertia ixx="0.00444041795923784" ixy="2.4494168178014E-08" ixz="6.87068564705225E-09" iyy="0.00157714249117262" iyz="-0.000769691499829544" izz="0.00425162601622334" />
    </inertial>
    <visual>
      <origin xyz="0 0 0" rpy="0 0 0" />
      <geometry>
        <mesh filename="package://vb2_robot_description/meshes/jaka_right_arm/r6.STL" />
      </geometry>
      <material name="">
        <color rgba="0.898039215686275 0.917647058823529 0.929411764705882 1" />
      </material>
    </visual>
    <collision>
      <origin xyz="0 0 0" rpy="0 0 0" />
      <geometry>
        <mesh filename="package://vb2_robot_description/meshes/jaka_right_arm/r6.STL" />
      </geometry>
    </collision>
  </link>
  <joint name="r_j6" type="revolute">
    <origin xyz="0 0 0.23494" rpy="-1.5708 0 0" />
    <parent link="r5" />
    <child link="r6" />
    <axis xyz="0 0 1" />
    <limit lower="-1.8325" upper="1.8325" effort="0" velocity="0" />
  </joint>
  <link name="r7">
    <inertial>
      <origin xyz="1.42835471839131E-07 -3.41914556708789E-05 0.176217274900879" rpy="0 0 0" />
      <mass value="0.634983447813083" />
      <inertia ixx="0.0003697008895978" ixy="-3.08834639143619E-13" ixz="-1.0233696538607E-10" iyy="0.000370207332605644" iyz="4.29870025767548E-07" izz="0.000512144747708847" />
    </inertial>
    <visual>
      <origin xyz="0 0 0" rpy="0 0 0" />
      <geometry>
        <mesh filename="package://vb2_robot_description/meshes/jaka_right_arm/r7.STL" />
      </geometry>
      <material name="">
        <color rgba="1 1 1 1" />
      </material>
    </visual>
    <collision>
      <origin xyz="0 0 0" rpy="0 0 0" />
      <geometry>
        <mesh filename="package://vb2_robot_description/meshes/jaka_right_arm/r7.STL" />
      </geometry>
    </collision>
  </link>
  <joint name="r_j7" type="revolute">
    <origin xyz="0 0 0" rpy="1.5708 0 0" />
    <parent link="r6" />
    <child link="r7" />
    <axis xyz="0 0 1" />
    <limit lower="-6.2832" upper="6.2832" effort="0" velocity="0" />
  </joint>
  <link name="rt">
    <inertial>
      <origin xyz="7.18437170865727E-10 -1.92504789886527E-10 -0.00099999999999989" rpy="0 0 0" />
      <mass value="0.00155862265526229" />
      <inertia ixx="9.71784989903875E-08" ixy="-1.32871153202434E-20" ixz="-6.90701328589823E-14" iyy="9.71784989903415E-08" iyz="1.85072947766703E-14" izz="1.93317916210448E-07" />
    </inertial>
    <visual>
      <origin xyz="0 0 0" rpy="0 0 0" />
      <geometry>
        <mesh filename="package://vb2_robot_description/meshes/jaka_right_arm/rt.STL" />
      </geometry>
      <material name="">
        <color rgba="0.792156862745098 0.819607843137255 0.933333333333333 1" />
      </material>
    </visual>
    <collision>
      <origin xyz="0 0 0" rpy="0 0 0" />
      <geometry>
        <mesh filename="package://vb2_robot_description/meshes/jaka_right_arm/rt.STL" />
      </geometry>
    </collision>
  </link>
  <joint name="r_t" type="fixed">
    <origin xyz="0 0 0.18827" rpy="0 0 0" />
    <parent link="r7" />
    <child link="rt" />
    <axis xyz="0 0 0" />
  </joint>

  <link name="right_tool_link"/>
  <joint name="right_tool_joint" type="fixed">
    <origin xyz="0 0 0" rpy="0 0 0" />
    <parent link="rt" />
    <child link="right_tool_link" />
    <axis xyz="0 0 0" />
  </joint>

  <!-- left hand -->
  <link name="left_hand_base_link">
    <inertial>
      <origin xyz="0.0017239 0.0051432 -0.031065" rpy="0 0 0" />
      <mass value="0.427" />
      <inertia ixx="0.0010405" ixy="-3.7268E-05" ixz="-3.9415E-05" iyy="0.0013244" iyz="-4.7638E-05" izz="0.00053219" />
    </inertial>
    <visual>
      <origin xyz="0 0 0" rpy="0 0 0" />
      <geometry>
        <mesh filename="package://vb2_robot_description/meshes/left_hand/base_link.STL" />
      </geometry>
      <material name="">
        <color rgba="0.75294 0.75294 0.75294 1" />
      </material>
    </visual>
    <collision>
      <origin xyz="0 0 0" rpy="0 0 0" />
      <geometry>
        <mesh filename="package://vb2_robot_description/meshes/left_hand/base_link.STL" />
      </geometry>
    </collision>
  </link>
  <joint name="left_hand_base_joint" type="fixed">
    <origin xyz="0 0 0.03" rpy="1.570795 0 -1.570795" />
    <parent link="lt" />
    <child link="left_hand_base_link" />
    <axis xyz="0 0 0" />
  </joint>
  <link name="left_hand_thumb_prox">
    <inertial>
      <origin xyz="0.0017239 0.0051432 -0.031065" rpy="0 0 0" />
      <mass value="0.005" />
      <inertia ixx="0.0010405" ixy="-3.7268E-05" ixz="-3.9415E-05" iyy="0.0013244" iyz="-4.7638E-05" izz="0.00053219" />
    </inertial>
    <visual>
      <origin xyz="0 0 0" rpy="0 0 0" />
      <geometry>
        <mesh filename="package://vb2_robot_description/meshes/left_hand/thumb_prox.STL" />
      </geometry>
      <material name="">
        <color rgba="0.75294 0.75294 0.75294 1" />
      </material>
    </visual>
    <collision>
      <origin xyz="0 0 0" rpy="0 0 0" />
      <geometry>
        <mesh filename="package://vb2_robot_description/meshes/left_hand/thumb_prox.STL" />
      </geometry>
    </collision>
  </link>
  <joint name="left_hand_thumbCMC" type="revolute">
    <origin xyz="-0.0245 0.022632 0.023263" rpy="0.14578 -1.0699 -0.12808" />
    <parent link="left_hand_base_link" />
    <child link="left_hand_thumb_prox" />
    <axis xyz="0 1 0" />
    <limit lower="0" upper="1.5708" effort="0" velocity="0" />
    <dynamics damping="0" friction="0" />
  </joint>
  <link name="left_hand_thumb_dist">
    <inertial>
      <origin xyz="0.0017239 0.0051432 -0.031065" rpy="0 0 0" />
      <mass value="0.04" />
      <inertia ixx="0.0010405" ixy="-3.7268E-05" ixz="-3.9415E-05" iyy="0.0013244" iyz="-4.7638E-05" izz="0.00053219" />
    </inertial>
    <visual>
      <origin xyz="0 0 0" rpy="0 0 0" />
      <geometry>
        <mesh filename="package://vb2_robot_description/meshes/left_hand/thumb_dist.STL" />
      </geometry>
      <material name="">
        <color rgba="0.75294 0.75294 0.75294 1" />
      </material>
    </visual>
    <collision>
      <origin xyz="0 0 0" rpy="0 0 0" />
      <geometry>
        <mesh filename="package://vb2_robot_description/meshes/left_hand/thumb_dist.STL" />
      </geometry>
    </collision>
  </link>
  <joint name="left_hand_thumbMCP" type="revolute">
    <origin xyz="0 0 0.013647" rpy="0.87266 -0.49642 0" />
    <parent link="left_hand_thumb_prox" />
    <child link="left_hand_thumb_dist" />
    <axis xyz="-1 0 0" />
    <limit lower="0" upper="0.8727" effort="0" velocity="0" />
    <dynamics damping="0" friction="0" />
  </joint>
  <link name="left_hand_Index_prox">
    <inertial>
      <origin xyz="0.0017239 0.0051432 -0.031065" rpy="0 0 0" />
      <mass value="0.008" />
      <inertia ixx="0.0010405" ixy="-3.7268E-05" ixz="-3.9415E-05" iyy="0.0013244" iyz="-4.7638E-05" izz="0.00053219" />
    </inertial>
    <visual>
      <origin xyz="0 0 0" rpy="0 0 0" />
      <geometry>
        <mesh filename="package://vb2_robot_description/meshes/left_hand/Index_prox.STL" />
      </geometry>
      <material name="">
        <color rgba="0.75294 0.75294 0.75294 1" />
      </material>
    </visual>
    <collision>
      <origin xyz="0 0 0" rpy="0 0 0" />
      <geometry>
        <mesh filename="package://vb2_robot_description/meshes/left_hand/Index_prox.STL" />
      </geometry>
    </collision>
  </link>
  <joint name="left_hand_indexMCP" type="revolute">
    <origin xyz="-0.029003 0.088291 0.0022155" rpy="-0.029415 0.05236 0.034907" />
    <parent link="left_hand_base_link" />
    <child link="left_hand_Index_prox" />
    <axis xyz="1 0 0" />
    <limit lower="0" upper="1.309" effort="0" velocity="0" />
    <dynamics damping="0" friction="0" />
  </joint>
  <link name="left_hand_index_dist">
    <inertial>
      <origin xyz="0.0017239 0.0051432 -0.031065" rpy="0 0 0" />
      <mass value="0.011" />
      <inertia ixx="0.0010405" ixy="-3.7268E-05" ixz="-3.9415E-05" iyy="0.0013244" iyz="-4.7638E-05" izz="0.00053219" />
    </inertial>
    <visual>
      <origin xyz="0 0 0" rpy="0 0 0" />
      <geometry>
        <mesh filename="package://vb2_robot_description/meshes/left_hand/index_dist.STL" />
      </geometry>
      <material name="">
        <color rgba="0.75294 0.75294 0.75294 1" />
      </material>
    </visual>
    <collision>
      <origin xyz="0 0 0" rpy="0 0 0" />
      <geometry>
        <mesh filename="package://vb2_robot_description/meshes/left_hand/index_dist.STL" />
      </geometry>
    </collision>
  </link>
  <joint name="left_hand_indexPIP" type="revolute">
    <origin xyz="0 0.035 0" rpy="0.19353 0 0" />
    <parent link="left_hand_Index_prox" />
    <child link="left_hand_index_dist" />
    <axis xyz="1 0 0" />
    <limit lower="0" upper="2.0944" effort="0" velocity="0" />
    <mimic joint="left_hand_indexMCP" multiplier="1.2" offset="0.193731547" />
  </joint>
  <link name="left_hand_middle_prox">
    <inertial>
      <origin xyz="0.0017239 0.0051432 -0.031065" rpy="0 0 0" />
      <mass value="0.011" />
      <inertia ixx="0.0010405" ixy="-3.7268E-05" ixz="-3.9415E-05" iyy="0.0013244" iyz="-4.7638E-05" izz="0.00053219" />
    </inertial>
    <visual>
      <origin xyz="0 0 0" rpy="0 0 0" />
      <geometry>
        <mesh filename="package://vb2_robot_description/meshes/left_hand/middle_prox.STL" />
      </geometry>
      <material name="">
        <color rgba="0.75294 0.75294 0.75294 1" />
      </material>
    </visual>
    <collision>
      <origin xyz="0 0 0" rpy="0 0 0" />
      <geometry>
        <mesh filename="package://vb2_robot_description/meshes/left_hand/middle_prox.STL" />
      </geometry>
    </collision>
  </link>
  <joint name="left_hand_middleMCP" type="revolute">
    <origin xyz="-0.008 0.092284 -0.0017707" rpy="0 0 0" />
    <parent link="left_hand_base_link" />
    <child link="left_hand_middle_prox" />
    <axis xyz="1 0 0" />
    <limit lower="0" upper="1.309" effort="0" velocity="0" />
    <dynamics damping="0" friction="0" />
  </joint>
  <link name="left_hand_middle_dist">
    <inertial>
      <origin xyz="0.0017239 0.0051432 -0.031065" rpy="0 0 0" />
      <mass value="0.011" />
      <inertia ixx="0.0010405" ixy="-3.7268E-05" ixz="-3.9415E-05" iyy="0.0013244" iyz="-4.7638E-05" izz="0.00053219" />
    </inertial>
    <visual>
      <origin xyz="0 0 0" rpy="0 0 0" />
      <geometry>
        <mesh filename="package://vb2_robot_description/meshes/left_hand/middle_dist.STL" />
      </geometry>
      <material name="">
        <color rgba="0.75294 0.75294 0.75294 1" />
      </material>
    </visual>
    <collision>
      <origin xyz="0 0 0" rpy="0 0 0" />
      <geometry>
        <mesh filename="package://vb2_robot_description/meshes/left_hand/middle_dist.STL" />
      </geometry>
    </collision>
  </link>
  <joint name="left_hand_middlePIP" type="revolute">
    <origin xyz="0 0.042 0" rpy="0.18357 0 0" />
    <parent link="left_hand_middle_prox" />
    <child link="left_hand_middle_dist" />
    <axis xyz="1 0 0" />
    <limit lower="0" upper="2.0944" effort="0" velocity="0" />
    <mimic joint="left_hand_middleMCP" multiplier="1.2" offset="0.1832595715" />
  </joint>
  <link name="left_hand_ring_prox">
    <inertial>
      <origin xyz="0.0017239 0.0051432 -0.031065" rpy="0 0 0" />
      <mass value="0.011" />
      <inertia ixx="0.0010405" ixy="-3.7268E-05" ixz="-3.9415E-05" iyy="0.0013244" iyz="-4.7638E-05" izz="0.00053219" />
    </inertial>
    <visual>
      <origin xyz="0 0 0" rpy="0 0 0" />
      <geometry>
        <mesh filename="package://vb2_robot_description/meshes/left_hand/ring_prox.STL" />
      </geometry>
      <material name="">
        <color rgba="0.75294 0.75294 0.75294 1" />
      </material>
    </visual>
    <collision>
      <origin xyz="0 0 0" rpy="0 0 0" />
      <geometry>
        <mesh filename="package://vb2_robot_description/meshes/left_hand/ring_prox.STL" />
      </geometry>
    </collision>
  </link>
  <joint name="left_hand_ringMCP" type="revolute">
    <origin xyz="0.013103 0.090291 -0.0017845" rpy="-0.0092374 -0.05236 -0.034907" />
    <parent link="left_hand_base_link" />
    <child link="left_hand_ring_prox" />
    <axis xyz="1 0 0" />
    <limit lower="0" upper="1.309" effort="0" velocity="0" />
    <dynamics damping="0" friction="0" />
  </joint>
  <link name="left_hand_ring_dist">
    <inertial>
      <origin xyz="0.0017239 0.0051432 -0.031065" rpy="0 0 0" />
      <mass value="0.008" />
      <inertia ixx="0.0010405" ixy="-3.7268E-05" ixz="-3.9415E-05" iyy="0.0013244" iyz="-4.7638E-05" izz="0.00053219" />
    </inertial>
    <visual>
      <origin xyz="0 0 0" rpy="0 0 0" />
      <geometry>
        <mesh filename="package://vb2_robot_description/meshes/left_hand/ring_dist.STL" />
      </geometry>
      <material name="">
        <color rgba="0.75294 0.75294 0.75294 1" />
      </material>
    </visual>
    <collision>
      <origin xyz="0 0 0" rpy="0 0 0" />
      <geometry>
        <mesh filename="package://vb2_robot_description/meshes/left_hand/ring_dist.STL" />
      </geometry>
    </collision>
  </link>
  <joint name="left_hand_ringPIP" type="revolute">
    <origin xyz="0 0.042 0" rpy="0.16583 0 0" />
    <parent link="left_hand_ring_prox" />
    <child link="left_hand_ring_dist" />
    <axis xyz="1 0 0" />
    <limit lower="0" upper="2.0944" effort="0" velocity="0" />
    <mimic joint="left_hand_ringMCP" multiplier="1.2" offset="0.1658062789" />
  </joint>
  <link name="left_hand_little_prox">
    <inertial>
      <origin xyz="0 0 0" rpy="0 0 0" />
      <mass value="0.008" />
      <inertia ixx="3.3526E-07" ixy="2.8461E-11" ixz="-2.3358E-12" iyy="1.0129E-07" iyz="2.1346E-08" izz="3.7096E-07" />
    </inertial>
    <visual>
      <origin xyz="0 0 0" rpy="0 0 0" />
      <geometry>
        <mesh filename="package://vb2_robot_description/meshes/left_hand/little_prox.STL" />
      </geometry>
      <material name="">
        <color rgba="1 1 1 1" />
      </material>
    </visual>
    <collision>
      <origin xyz="0 0 0" rpy="0 0 0" />
      <geometry>
        <mesh filename="package://vb2_robot_description/meshes/left_hand/little_prox.STL" />
      </geometry>
    </collision>
  </link>
  <joint name="left_hand_littleMCP" type="revolute">
    <origin xyz="0.033731 0.083777 0.0022155" rpy="-0.024909 -0.05236 -0.069813" />
    <parent link="left_hand_base_link" />
    <child link="left_hand_little_prox" />
    <axis xyz="1 0 0" />
    <limit lower="0" upper="1.309" effort="0" velocity="0" />
    <dynamics damping="0" friction="0" />
  </joint>
  <link name="left_hand_little_dist">
    <inertial>
      <origin xyz="0.0017239 0.0051432 -0.031065" rpy="0 0 0" />
      <mass value="0.008" />
      <inertia ixx="0.0010405" ixy="-3.7268E-05" ixz="-3.9415E-05" iyy="0.0013244" iyz="-4.7638E-05" izz="0.00053219" />
    </inertial>
    <visual>
      <origin xyz="0 0 0" rpy="0 0 0" />
      <geometry>
        <mesh filename="package://vb2_robot_description/meshes/left_hand/little_dist.STL" />
      </geometry>
      <material name="">
        <color rgba="0.75294 0.75294 0.75294 1" />
      </material>
    </visual>
    <collision>
      <origin xyz="0 0 0" rpy="0 0 0" />
      <geometry>
        <mesh filename="package://vb2_robot_description/meshes/left_hand/little_dist.STL" />
      </geometry>
    </collision>
  </link>
  <joint name="left_hand_littlePIP" type="revolute">
    <origin xyz="0 0.035 0" rpy="0.20294 0 0" />
    <parent link="left_hand_little_prox" />
    <child link="left_hand_little_dist" />
    <axis xyz="1 0 0" />
    <limit lower="0" upper="2.0944" effort="0" velocity="0" />
    <mimic joint="left_hand_littleMCP" multiplier="1.2" offset="0.2024581932" />
  </joint>

  <!-- right hand -->
  <link name="right_hand_base_link">
    <inertial>
      <origin xyz="-0.00099373 0.040537 -0.0022835" rpy="0 0 0" />
      <mass value="0.427" />
      <inertia ixx="3.4364E-05" ixy="-1.2404E-06" ixz="5.654E-07" iyy="3.9467E-05" iyz="3.8955E-06" izz="6.3984E-05" />
    </inertial>
    <visual>
      <origin xyz="0 0 0" rpy="0 0 0" />
      <geometry>
        <mesh filename="package://vb2_robot_description/meshes/right_hand/base_link.STL" />
      </geometry>
      <material name="">
        <color rgba="0.75294 0.75294 0.75294 1" />
      </material>
    </visual>
    <collision>
      <origin xyz="0 0 0" rpy="0 0 0" />
      <geometry>
        <mesh filename="package://vb2_robot_description/meshes/right_hand/base_link.STL" />
      </geometry>
    </collision>
  </link>
  <joint name="right_hand_base_joint" type="fixed">
    <origin xyz="0 0 0.03" rpy="1.570795 0 1.570795" />
    <parent link="rt" />
    <child link="right_hand_base_link" />
    <axis xyz="0 0 0" />
  </joint>
  <link name="right_hand_thumb_prox">
    <inertial>
      <origin xyz="0.0062041 -7.9383E-08 0.0015306" rpy="0 0 0" />
      <mass value="0.005" />
      <inertia ixx="4.0639E-08" ixy="5.8675E-13" ixz="2.4299E-09" iyy="9.2485E-08" iyz="7.1049E-13" izz="8.5586E-08" />
    </inertial>
    <visual>
      <origin xyz="0 0 0" rpy="0 0 0" />
      <geometry>
        <mesh filename="package://vb2_robot_description/meshes/right_hand/thumb_prox.STL" />
      </geometry>
      <material name="">
        <color rgba="1 1 1 1" />
      </material>
    </visual>
    <collision>
      <origin xyz="0 0 0" rpy="0 0 0" />
      <geometry>
        <mesh filename="package://vb2_robot_description/meshes/right_hand/thumb_prox.STL" />
      </geometry>
    </collision>
  </link>
  <joint name="right_hand_thumbCMC" type="revolute">
    <origin xyz="0.0245 0.0242 0.021628" rpy="0 -0.49642 0" />
    <parent link="right_hand_base_link" />
    <child link="right_hand_thumb_prox" />
    <axis xyz="0 -1 0" />
    <limit lower="0" upper="1.5708" effort="0" velocity="0" />
  </joint>
  <link name="right_hand_thumb_dist">
    <inertial>
      <origin xyz="0.0083564 0.037204 -3.5884E-07" rpy="0 0 0" />
      <mass value="0.04" />
      <inertia ixx="7.1498E-06" ixy="2.0157E-07" ixz="-6.0726E-11" iyy="9.1501E-07" iyz="5.4502E-10" izz="6.8747E-06" />
    </inertial>
    <visual>
      <origin xyz="0 0 0" rpy="0 0 0" />
      <geometry>
        <mesh filename="package://vb2_robot_description/meshes/right_hand/thumb_dist.STL" />
      </geometry>
      <material name="">
        <color rgba="0.75294 0.75294 0.75294 1" />
      </material>
    </visual>
    <collision>
      <origin xyz="0 0 0" rpy="0 0 0" />
      <geometry>
        <mesh filename="package://vb2_robot_description/meshes/right_hand/thumb_dist.STL" />
      </geometry>
    </collision>
  </link>
  <joint name="right_hand_thumbMCP" type="revolute">
    <origin xyz="0.013647 0 0" rpy="-0.39332 0.31115 -0.93514" />
    <parent link="right_hand_thumb_prox" />
    <child link="right_hand_thumb_dist" />
    <axis xyz="0 0 1" />
    <limit lower="0" upper="0.87266" effort="0" velocity="0" />
  </joint>
  <link name="right_hand_index_prox">
    <inertial>
      <origin xyz="-5.571E-07 0.016609 0.00045746" rpy="0 0 0" />
      <mass value="0.008" />
      <inertia ixx="3.3526E-07" ixy="2.9401E-11" ixz="-2.4782E-12" iyy="1.0133E-07" iyz="2.0576E-08" izz="3.7092E-07" />
    </inertial>
    <visual>
      <origin xyz="0 0 0" rpy="0 0 0" />
      <geometry>
        <mesh filename="package://vb2_robot_description/meshes/right_hand/index_prox.STL" />
      </geometry>
      <material name="">
        <color rgba="0.75294 0.75294 0.75294 1" />
      </material>
    </visual>
    <collision>
      <origin xyz="0 0 0" rpy="0 0 0" />
      <geometry>
        <mesh filename="package://vb2_robot_description/meshes/right_hand/index_prox.STL" />
      </geometry>
    </collision>
  </link>
  <joint name="right_hand_indexMCP" type="revolute">
    <origin xyz="0.029003 0.088231 -0.0039488" rpy="-0.09929 -0.054667 -0.031168" />
    <parent link="right_hand_base_link" />
    <child link="right_hand_index_prox" />
    <axis xyz="1 0 0" />
    <limit lower="0" upper="1.309" effort="0" velocity="0" />
  </joint>
  <link name="right_hand_index_dist">
    <inertial>
      <origin xyz="5.9401E-06 0.025449 0.003278" rpy="0 0 0" />
      <mass value="0.011" />
      <inertia ixx="8.4801E-07" ixy="-1.0878E-09" ixz="-1.3683E-10" iyy="1.4147E-07" iyz="-1.0078E-07" izz="8.5502E-07" />
    </inertial>
    <visual>
      <origin xyz="0 0 0" rpy="0 0 0" />
      <geometry>
        <mesh filename="package://vb2_robot_description/meshes/right_hand/index_dist.STL" />
      </geometry>
      <material name="">
        <color rgba="0.75294 0.75294 0.75294 1" />
      </material>
    </visual>
    <collision>
      <origin xyz="0 0 0" rpy="0 0 0" />
      <geometry>
        <mesh filename="package://vb2_robot_description/meshes/right_hand/index_dist.STL" />
      </geometry>
    </collision>
  </link>
  <joint name="right_hand_indexPIP" type="revolute">
    <origin xyz="0 0.035 0" rpy="0.19353 0 0" />
    <parent link="right_hand_index_prox" />
    <child link="right_hand_index_dist" />
    <axis xyz="1 0 0" />
    <limit lower="0" upper="2.0944" effort="0" velocity="0" />
    <mimic joint="right_hand_indexMCP" multiplier="1.2" offset="0.193731547" />
  </joint>
  <link name="right_hand_middle_prox">
    <inertial>
      <origin xyz="2.3779E-07 0.020205 0.00053993" rpy="0 0 0" />
      <mass value="0.011" />
      <inertia ixx="5.5624E-07" ixy="8E-12" ixz="-8.5151E-12" iyy="1.3298E-07" iyz="2.669E-08" izz="6.0146E-07" />
    </inertial>
    <visual>
      <origin xyz="0 0 0" rpy="0 0 0" />
      <geometry>
        <mesh filename="package://vb2_robot_description/meshes/right_hand/middle_prox.STL" />
      </geometry>
      <material name="">
        <color rgba="0.75294 0.75294 0.75294 1" />
      </material>
    </visual>
    <collision>
      <origin xyz="0 0 0" rpy="0 0 0" />
      <geometry>
        <mesh filename="package://vb2_robot_description/meshes/right_hand/middle_prox.STL" />
      </geometry>
    </collision>
  </link>
  <joint name="right_hand_middleMCP" type="revolute">
    <origin xyz="0.008 0.091935 -0.0082038" rpy="-0.069813 0 0" />
    <parent link="right_hand_base_link" />
    <child link="right_hand_middle_prox" />
    <axis xyz="1 0 0" />
    <limit lower="0" upper="1.309" effort="0" velocity="0" />
  </joint>
  <link name="right_hand_middle_dist">
    <inertial>
      <origin xyz="5.9404E-06 0.025449 0.003278" rpy="0 0 0" />
      <mass value="0.011" />
      <inertia ixx="8.4801E-07" ixy="-1.0879E-09" ixz="-1.3705E-10" iyy="1.4147E-07" iyz="-1.0078E-07" izz="8.5501E-07" />
    </inertial>
    <visual>
      <origin xyz="0 0 0" rpy="0 0 0" />
      <geometry>
        <mesh filename="package://vb2_robot_description/meshes/right_hand/middle_dist.STL" />
      </geometry>
      <material name="">
        <color rgba="0.75294 0.75294 0.75294 1" />
      </material>
    </visual>
    <collision>
      <origin xyz="0 0 0" rpy="0 0 0" />
      <geometry>
        <mesh filename="package://vb2_robot_description/meshes/right_hand/middle_dist.STL" />
      </geometry>
    </collision>
  </link>
  <joint name="right_hand_middlePIP" type="revolute">
    <origin xyz="0 0.042 0" rpy="0.18357 0 0" />
    <parent link="right_hand_middle_prox" />
    <child link="right_hand_middle_dist" />
    <axis xyz="1 0 0" />
    <limit lower="0" upper="2.0944" effort="0" velocity="0" />
    <mimic joint="right_hand_middleMCP" multiplier="1.2" offset="0.1832595715" />
  </joint>
  <link name="right_hand_ring_prox">
    <inertial>
      <origin xyz="2.4507E-07 0.020236 0.00042373" rpy="0 0 0" />
      <mass value="0.011" />
      <inertia ixx="5.5623E-07" ixy="7.4604E-12" ixz="-8.5876E-12" iyy="1.3295E-07" iyz="2.7719E-08" izz="6.0149E-07" />
    </inertial>
    <visual>
      <origin xyz="0 0 0" rpy="0 0 0" />
      <geometry>
        <mesh filename="package://vb2_robot_description/meshes/right_hand/ring_prox.STL" />
      </geometry>
      <material name="">
        <color rgba="0.75294 0.75294 0.75294 1" />
      </material>
    </visual>
    <collision>
      <origin xyz="0 0 0" rpy="0 0 0" />
      <geometry>
        <mesh filename="package://vb2_robot_description/meshes/right_hand/ring_prox.STL" />
      </geometry>
    </collision>
  </link>
  <joint name="right_hand_ringMCP" type="revolute">
    <origin xyz="-0.013103 0.089947 -0.0080786" rpy="-0.079113 0.054667 0.031168" />
    <parent link="right_hand_base_link" />
    <child link="right_hand_ring_prox" />
    <axis xyz="1 0 0" />
    <limit lower="0" upper="1.309" effort="0" velocity="0" />
  </joint>
  <link name="right_hand_ring_dist">
    <inertial>
      <origin xyz="5.5799E-07 0.020388 0.0029077" rpy="0 0 0" />
      <mass value="0.008" />
      <inertia ixx="3.6793E-07" ixy="-6.504E-13" ixz="-1.1541E-11" iyy="8.4208E-08" iyz="-4.5737E-08" izz="3.8369E-07" />
    </inertial>
    <visual>
      <origin xyz="0 0 0" rpy="0 0 0" />
      <geometry>
        <mesh filename="package://vb2_robot_description/meshes/right_hand/ring_dist.STL" />
      </geometry>
      <material name="">
        <color rgba="0.75294 0.75294 0.75294 1" />
      </material>
    </visual>
    <collision>
      <origin xyz="0 0 0" rpy="0 0 0" />
      <geometry>
        <mesh filename="package://vb2_robot_description/meshes/right_hand/ring_dist.STL" />
      </geometry>
    </collision>
  </link>
  <joint name="right_hand_ringPIP" type="revolute">
    <origin xyz="0 0.042 0" rpy="0.16583 0 0" />
    <parent link="right_hand_ring_prox" />
    <child link="right_hand_ring_dist" />
    <axis xyz="1 0 0" />
    <limit lower="0" upper="2.0944" effort="0" velocity="0" />
    <mimic joint="right_hand_ringMCP" multiplier="1.2" offset="0.1658062789" />
  </joint>
  <link name="right_hand_little_prox">
    <inertial>
      <origin xyz="-5.4618E-07 0.016662 0.00040738" rpy="0 0 0" />
      <mass value="0.008" />
      <inertia ixx="3.3526E-07" ixy="2.8461E-11" ixz="-2.3358E-12" iyy="1.0129E-07" iyz="2.1346E-08" izz="3.7096E-07" />
    </inertial>
    <visual>
      <origin xyz="0 0 0" rpy="0 0 0" />
      <geometry>
        <mesh filename="package://vb2_robot_description/meshes/right_hand/little_prox.STL" />
      </geometry>
      <material name="">
        <color rgba="0.75294 0.75294 0.75294 1" />
      </material>
    </visual>
    <collision>
      <origin xyz="0 0 0" rpy="0 0 0" />
      <geometry>
        <mesh filename="package://vb2_robot_description/meshes/right_hand/little_prox.STL" />
      </geometry>
    </collision>
  </link>
  <joint name="right_hand_littleMCP" type="revolute">
    <origin xyz="-0.033731 0.083727 -0.0036339" rpy="-0.094666 0.057099 0.065996" />
    <parent link="right_hand_base_link" />
    <child link="right_hand_little_prox" />
    <axis xyz="1 0 0" />
    <limit lower="0" upper="1.309" effort="0" velocity="0" />
  </joint>
  <link name="right_hand_little_dist">
    <inertial>
      <origin xyz="1.062E-05 0.017869 0.0020864" rpy="0 0 0" />
      <mass value="0.008" />
      <inertia ixx="2.3262E-07" ixy="-4.9135E-10" ixz="-4.9506E-11" iyy="6.4304E-08" iyz="-2.3564E-08" izz="2.4916E-07" />
    </inertial>
    <visual>
      <origin xyz="0 0 0" rpy="0 0 0" />
      <geometry>
        <mesh filename="package://vb2_robot_description/meshes/right_hand/little_dist.STL" />
      </geometry>
      <material name="">
        <color rgba="0.75294 0.75294 0.75294 1" />
      </material>
    </visual>
    <collision>
      <origin xyz="0 0 0" rpy="0 0 0" />
      <geometry>
        <mesh filename="package://vb2_robot_description/meshes/right_hand/little_dist.STL" />
      </geometry>
    </collision>
  </link>
  <joint name="right_hand_littlePIP" type="revolute">
    <origin xyz="0 0.035 0" rpy="0.20294 0 0" />
    <parent link="right_hand_little_prox" />
    <child link="right_hand_little_dist" />
    <axis xyz="1 0 0" />
    <limit lower="0" upper="2.0944" effort="0" velocity="0" />
    <mimic joint="right_hand_littleMCP" multiplier="1.2" offset="0.2024581932" />
  </joint>

  <!-- sensor -->
  <link name="left_hand_camera_mount_link">
    <inertial>
      <origin xyz="0.01502 2.2849E-09 0.016564" rpy="0 0 0" />
      <mass value="0.31172" />
      <inertia ixx="0.00033729" ixy="-1.1805E-11" ixz="1.1926E-06" iyy="0.00020263" iyz="-2.4084E-11" izz="0.00017567" />
    </inertial>
    <visual>
      <origin xyz="0 0 0" rpy="0 0 0" />
      <geometry>
        <mesh filename="package://vb2_robot_description/meshes/body/hand_camera_mount_link.STL" />
      </geometry>
      <material name="">
        <color rgba="0.86667 0.86667 0.8902 1" />
      </material>
    </visual>
    <collision>
      <origin xyz="0 0 0" rpy="0 0 0" />
      <geometry>
        <mesh filename="package://vb2_robot_description/meshes/body/hand_camera_mount_link.STL" />
      </geometry>
    </collision>
  </link>
  <joint name="left_hand_camera_mount_joint" type="fixed">
    <origin xyz="0 0 0" rpy="0 -1.570795 3.14159" />
    <parent link="lt" />
    <child link="left_hand_camera_mount_link" />
    <axis xyz="0 0 0" />
  </joint>
  <link name="left_D435_link">
    <inertial>
      <origin xyz="0.0035424 0.00011606 -0.013431" rpy="0 0 0" />
      <mass value="0.05014" />
      <inertia ixx="4.6239E-06" ixy="2.0611E-08" ixz="1.3629E-06" iyy="4.119E-05" iyz="-1.0826E-08" izz="4.0706E-05" />
    </inertial>
    <visual>
      <origin xyz="0 0 0" rpy="0 0 0" />
      <geometry>
        <mesh filename="package://vb2_robot_description/meshes/body/D435_link.STL" />
      </geometry>
      <material name="">
        <color rgba="1 1 1 1" />
      </material>
    </visual>
    <collision>
      <origin xyz="0 0 0" rpy="0 0 0" />
      <geometry>
        <mesh filename="package://vb2_robot_description/meshes/body/D435_link.STL" />
      </geometry>
    </collision>
  </link>
  <joint name="left_D435_joint" type="fixed">
    <origin xyz="0.05405 0 0.12" rpy="-1.5708 0 -1.5708" />
    <parent link="left_hand_camera_mount_link" />
    <child link="left_D435_link" />
  </joint>
  <link name="right_hand_camera_mount_link">
    <inertial>
      <origin xyz="0.01502 2.2849E-09 0.016564" rpy="0 0 0" />
      <mass value="0.31172" />
      <inertia ixx="0.00033729" ixy="-1.1805E-11" ixz="1.1926E-06" iyy="0.00020263" iyz="-2.4084E-11" izz="0.00017567" />
    </inertial>
    <visual>
      <origin xyz="0 0 0" rpy="0 0 0" />
      <geometry>
        <mesh filename="package://vb2_robot_description/meshes/body/hand_camera_mount_link.STL" />
      </geometry>
      <material name="">
        <color rgba="0.86667 0.86667 0.8902 1" />
      </material>
    </visual>
    <collision>
      <origin xyz="0 0 0" rpy="0 0 0" />
      <geometry>
        <mesh filename="package://vb2_robot_description/meshes/body/hand_camera_mount_link.STL" />
      </geometry>
    </collision>
  </link>
  <joint name="right_hand_camera_mount_joint" type="fixed">
    <origin xyz="0 0 0" rpy="0 -1.570795 0" />
    <parent link="rt" />
    <child link="right_hand_camera_mount_link" />
  </joint>
  <link name="right_D435_link">
    <inertial>
      <origin xyz="0.0035424 0.00011606 -0.013431" rpy="0 0 0" />
      <mass value="0.05014" />
      <inertia ixx="4.6239E-06" ixy="2.0611E-08" ixz="1.3629E-06" iyy="4.119E-05" iyz="-1.0826E-08" izz="4.0706E-05" />
    </inertial>
    <visual>
      <origin xyz="0 0 0" rpy="0 0 0" />
      <geometry>
        <mesh filename="package://vb2_robot_description/meshes/body/D435_link.STL" />
      </geometry>
      <material name="">
        <color rgba="1 1 1 1" />
      </material>
    </visual>
    <collision>
      <origin xyz="0 0 0" rpy="0 0 0" />
      <geometry>
        <mesh filename="package://vb2_robot_description/meshes/body/D435_link.STL" />
      </geometry>
    </collision>
  </link>
  <joint name="right_D435_joint" type="fixed">
    <origin xyz="0.05405 0 0.12" rpy="-1.5708 0 -1.5708" />
    <parent link="right_hand_camera_mount_link" />
    <child link="right_D435_link" />
  </joint>

  <link name="mid360_head_link"/>
  <joint name="mid360_head_joint" type="fixed">
    <origin xyz="0.022004 0 0.49697" rpy="0 0 0" />
    <parent link="waist_rotate_link" />
    <child link="mid360_head_link" />
  </joint>
  <link name="HS3310_link"/>
  <joint name="HS3310_joint" type="fixed">
    <!-- <origin xyz="0.096504 0 0.12297" rpy="-1.5708 0 -1.5708" /> -->
    <!-- 标定后补偿0.03−0.008920934=0.021079066 -->
    <origin xyz="0.096504 -0.021079066 0.12297" rpy="-1.5708 0 -1.5708" />
    <parent link="waist_rotate_link" />
    <child link="HS3310_link" />
  </joint>
  <link name="mid360_chassis_link"/>
  <joint name="mid360_chassis_joint" type="fixed">
    <origin xyz="0.25491 0 0.26991" rpy="0 0.7854 0" />
    <parent link="base_link" />
    <child link="mid360_chassis_link" />
  </joint>
  <link name="S10_front_link"/>
  <joint name="S10_front_joint" type="fixed">
    <origin xyz="0.28534 0.0001 0.19311" rpy="-1.3614 0 -1.5708" />
    <parent link="base_link" />
    <child link="S10_front_link" />
  </joint>
  <link name="S10_left_link"/>
  <joint name="S10_left_joint" type="fixed">
    <origin xyz="-0.0001 0.23554 0.19314" rpy="-1.3614 0 0" />
    <parent link="base_link" />
    <child link="S10_left_link" />
  </joint>
  <link name="S10_back_link"/>
  <joint name="S10_back_joint" type="fixed">
    <origin xyz="-0.28566 -0.0001 0.19264" rpy="-1.3614 0 1.5708" />
    <parent link="base_link" />
    <child link="S10_back_link" />
  </joint>
  <link name="S10_right_link"/>
  <joint name="S10_right_joint" type="fixed">
    <origin xyz="0.0001 -0.23573 0.19318" rpy="-1.3614 0 -3.1416" />
    <parent link="base_link" />
    <child link="S10_right_link" />
  </joint>
</robot>
